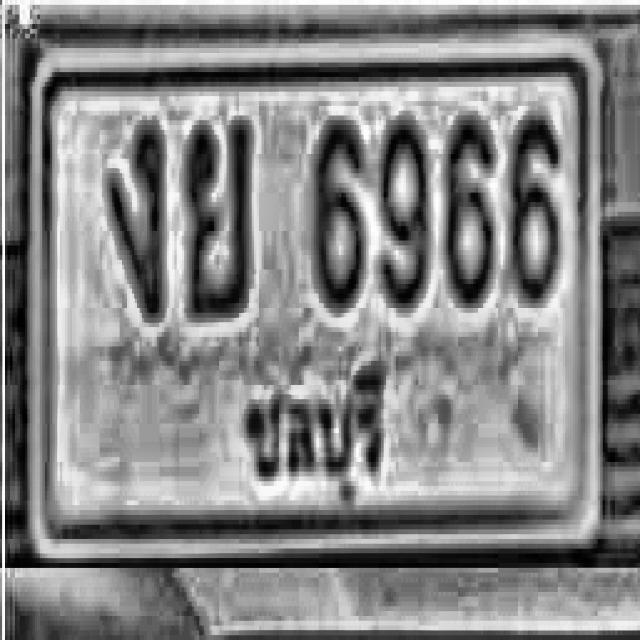license-plate: (22, 18, 606, 565)
